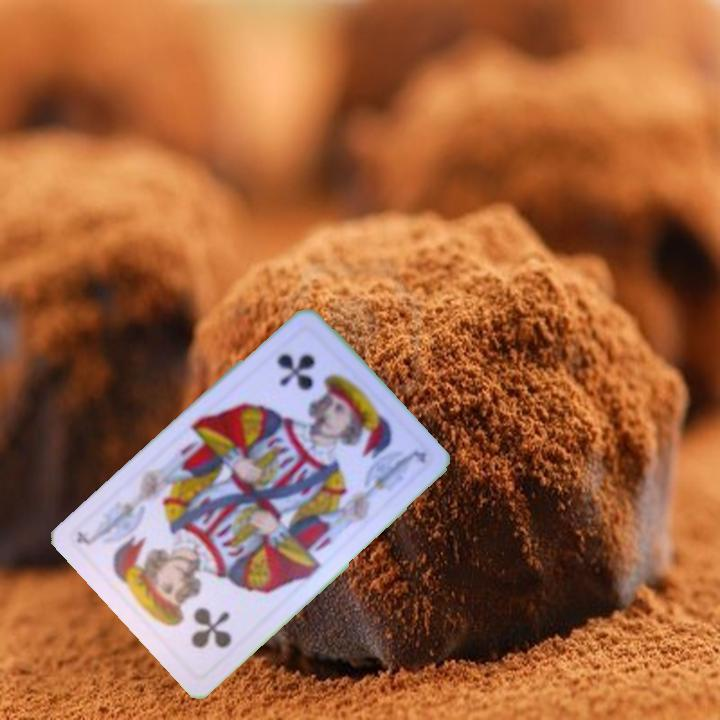c_j.png: (243, 322, 372, 452), (132, 551, 261, 680)
